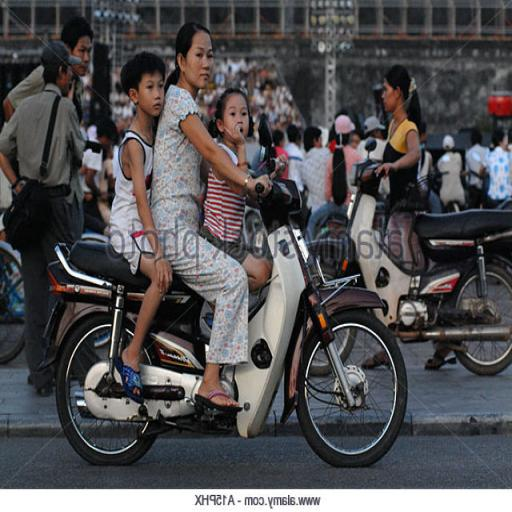overloading: (42, 118, 410, 468)
